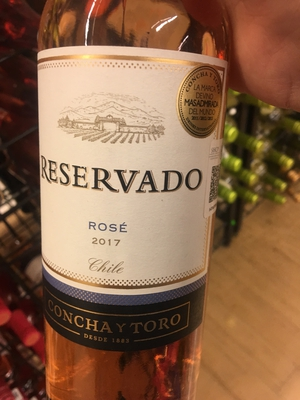reservado rose: (36, 16, 229, 400)
